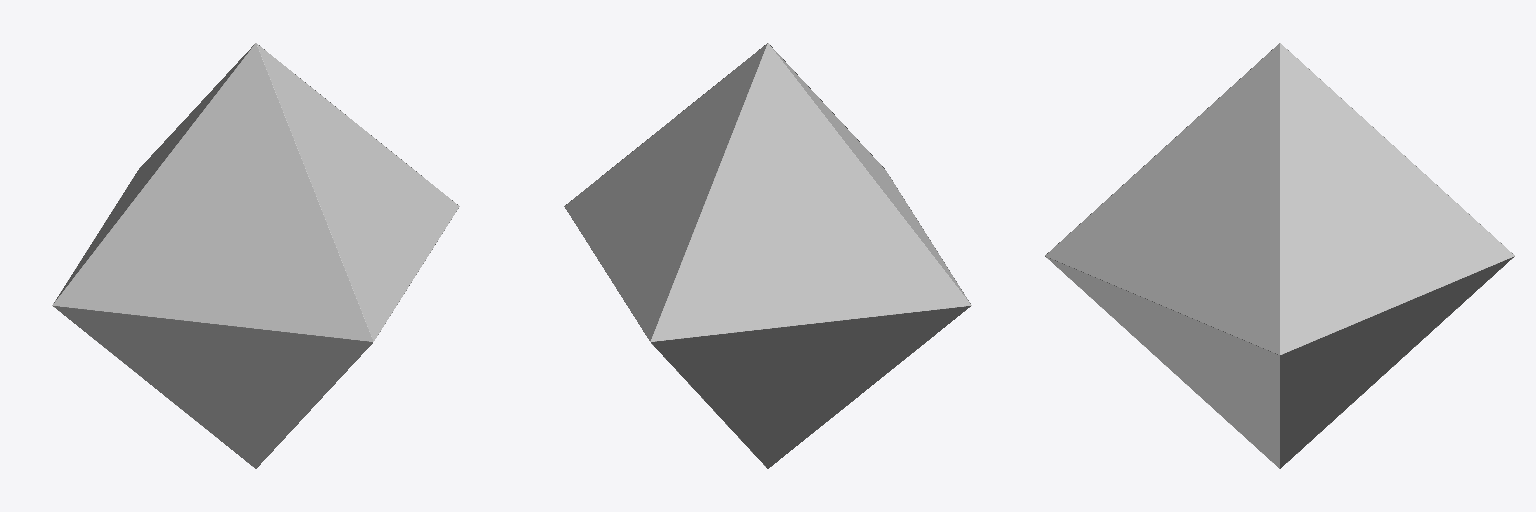
The model's file is paleh.obj.
3 renders of one model, left to right at view 1: azimuth 30°, elevation 25°; view 2: azimuth 150°, elevation 25°; view 3: azimuth 270°, elevation 25°, orthographic.
Visible parts, largest first — view 1: Cube; view 2: Cube; view 3: Cube.
Boxes of the visible parts, x1=… form: Cube: x1=52, y1=43, x2=459, y2=468; Cube: x1=564, y1=43, x2=971, y2=468; Cube: x1=1045, y1=43, x2=1514, y2=468.
Bounding box in the file's own units: 0.8593 × 0.8593 × 0.8593.